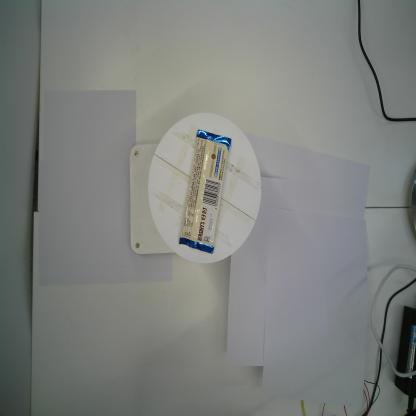Chocolate: (179, 130, 232, 254)
